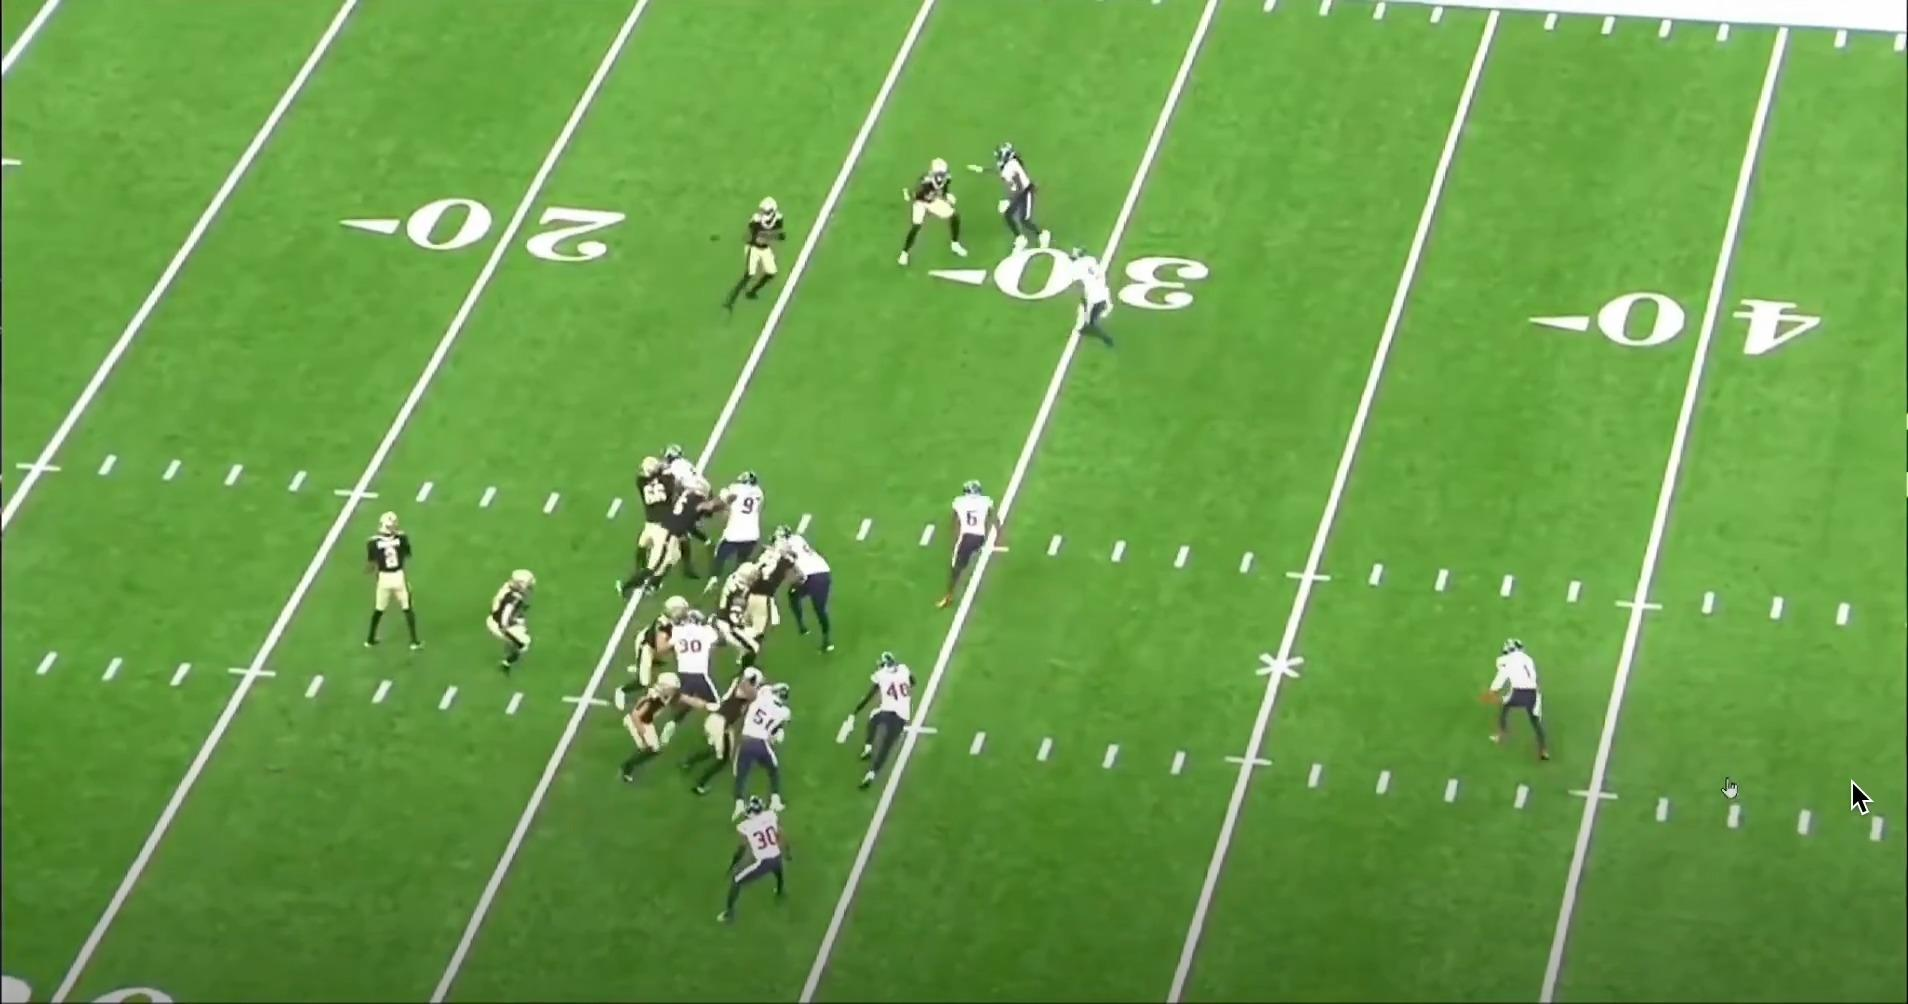defense: (843, 647, 931, 790), (712, 677, 791, 815), (710, 796, 792, 928), (665, 608, 739, 748), (1483, 633, 1560, 766), (935, 476, 1003, 609), (784, 525, 851, 656), (707, 468, 774, 588), (983, 137, 1050, 256), (1073, 247, 1126, 356), (655, 439, 713, 492)
oline: (615, 478, 731, 599), (683, 667, 766, 795), (617, 600, 690, 706), (630, 455, 678, 571), (743, 540, 798, 638)
qb: (356, 510, 427, 660)
skill: (896, 155, 968, 272), (620, 674, 689, 788), (719, 190, 785, 309), (488, 561, 551, 681), (712, 560, 772, 670)
